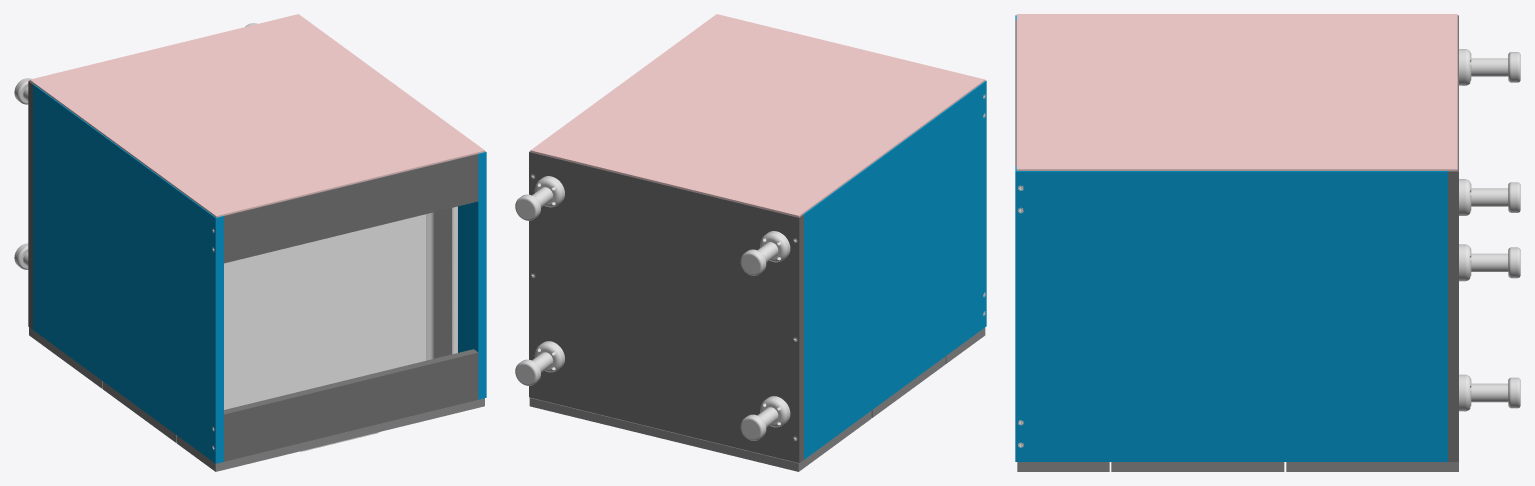
Rendered from PERSP.glb.
3 views of the same model, side by side, from view 1: azimuth 30°, elevation 25°; view 2: azimuth 150°, elevation 25°; view 3: azimuth 270°, elevation 25° (orthographic). The views are drawn at different scales.
Visible parts, largest first — view 1: *MODEL_SPACE, BLUM_358M5002S; view 2: *MODEL_SPACE, Virtuvne Kojele (×4); view 3: *MODEL_SPACE, Virtuvne Kojele (×4).
Part boxes in pixels (x1=…): *MODEL_SPACE: x1=28, y1=14, x2=486, y2=471; BLUM_358M5002S: x1=426, y1=206, x2=457, y2=360; *MODEL_SPACE: x1=529, y1=14, x2=986, y2=471; Virtuvne Kojele (×4): x1=515, y1=176, x2=790, y2=440; *MODEL_SPACE: x1=1015, y1=14, x2=1458, y2=471; Virtuvne Kojele (×4): x1=1459, y1=49, x2=1520, y2=411.
Bounding box in the file's own units: 0.6 × 0.5657 × 0.82.
